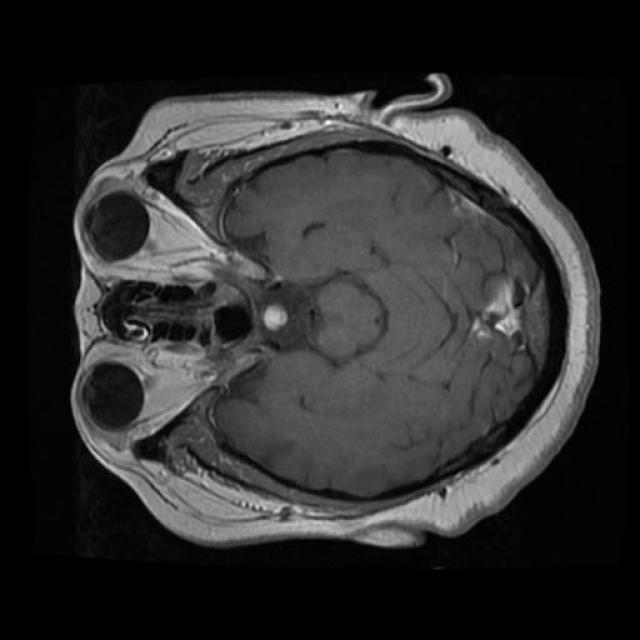Pituitary: (263, 303, 287, 330)
